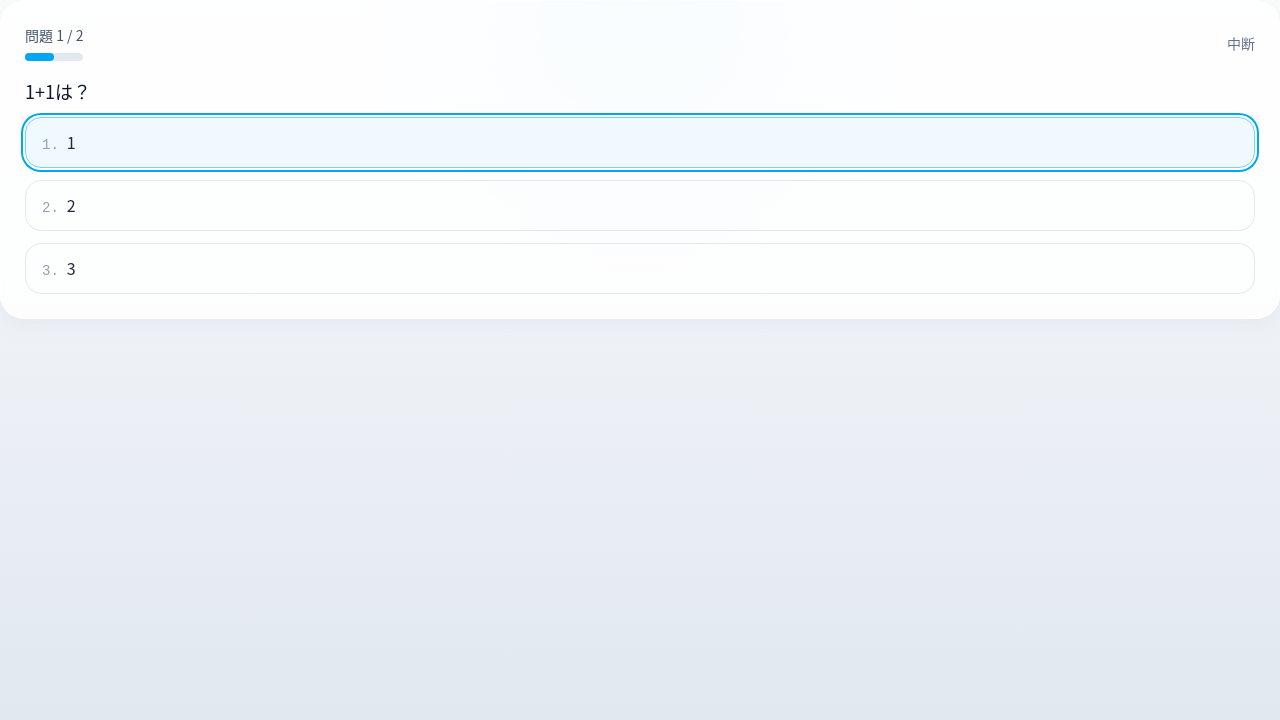
Test: QuizPage › 問題表示 › 選択肢をクリックすると回答結果が表示される
Click the text "2".
click(71, 205)  # box [67,193,76,217]
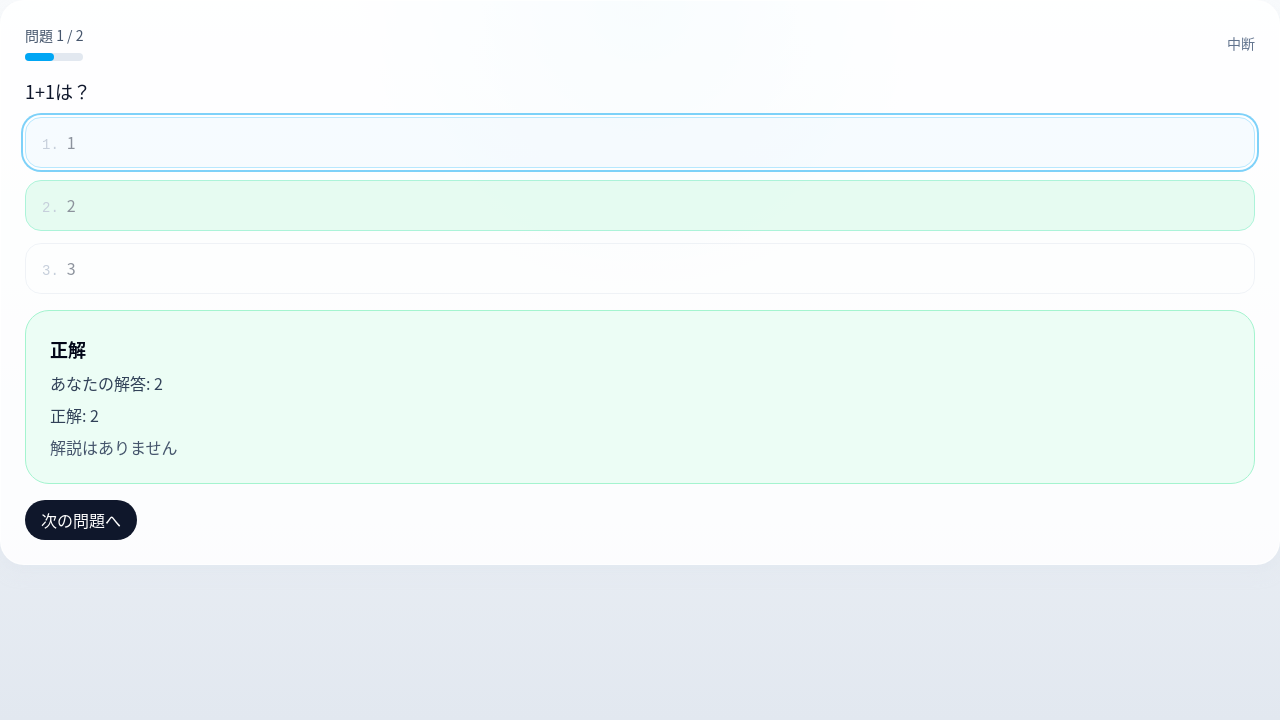
Now the text "正解" is shown, box [50,336,86,362]
